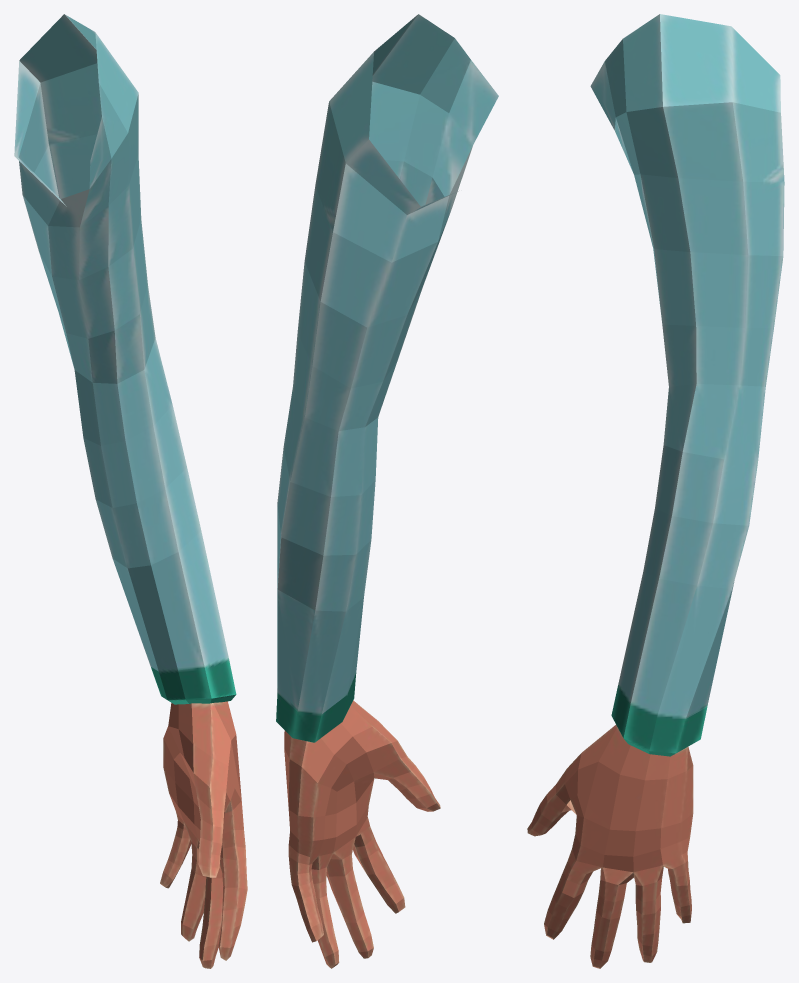
File: brazoIzq.obj
The picture shows the model from 3 angles, left to right: view 1: azimuth 30°, elevation 25°; view 2: azimuth 150°, elevation 25°; view 3: azimuth 270°, elevation 25°; orthographic projection. The views are drawn at different scales.
Parts seen in each view (by area): view 1: brazoIzq; view 2: brazoIzq; view 3: brazoIzq.
Boxes of the visible parts, bbox=[...] form: brazoIzq: bbox=[14, 14, 247, 968]; brazoIzq: bbox=[276, 14, 498, 968]; brazoIzq: bbox=[527, 14, 784, 968].
Bounding box in the file's own units: 0.1373 × 0.7133 × 0.1815.
Materials: 2 (2 with a texture image).
